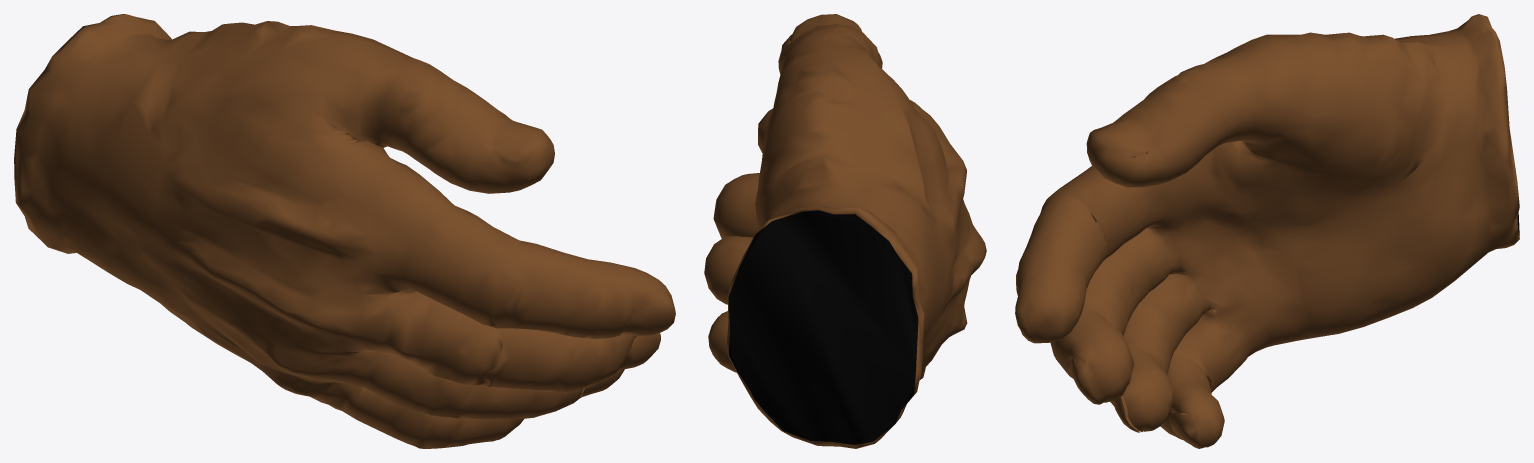
The model's file is hand.glb.
The picture shows the model from 3 angles, left to right: view 1: azimuth 30°, elevation 25°; view 2: azimuth 150°, elevation 25°; view 3: azimuth 270°, elevation 25°; orthographic projection. The views are drawn at different scales.
Visible parts, largest first — view 1: HandMesh; view 2: HandMesh; view 3: HandMesh.
Part boxes in pixels (x1,y1,x2,y2): HandMesh: (14, 14, 675, 448); HandMesh: (704, 14, 986, 448); HandMesh: (1015, 14, 1519, 448).
Size of the model in its own units: 0.1218 by 0.1069 by 0.1399.
